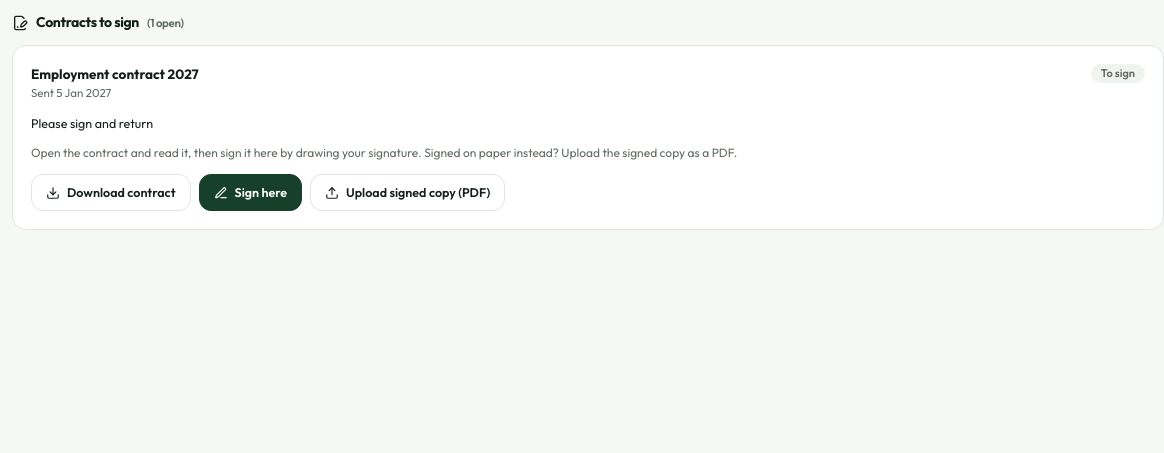
Test: ContractsToSign › a PDF contract can be signed with the saved signature, under their name
Later steps or results of the test are not shown.
Click the button "Sign here" at x=250, y=193, box [198, 174, 302, 211]
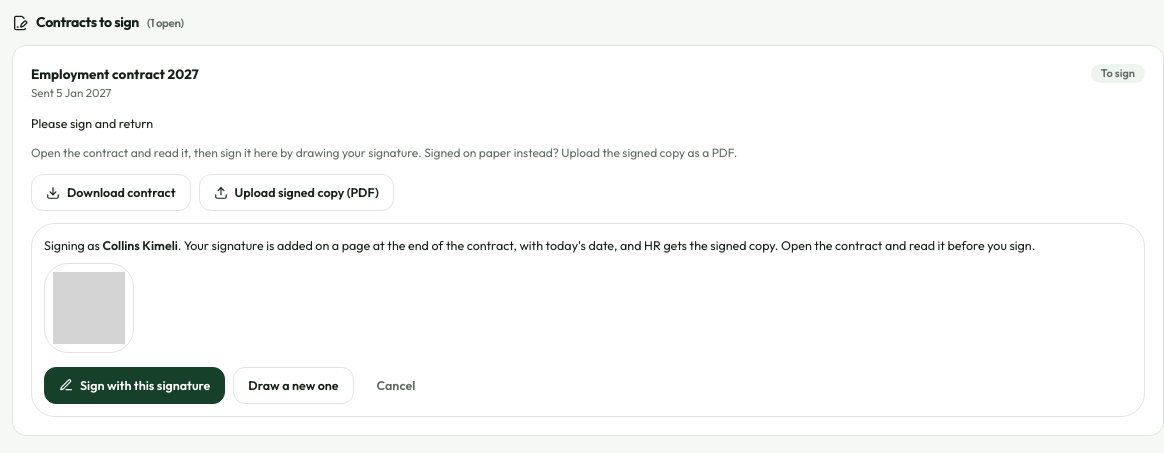
Expected: the text "Collins Kimeli" is shown, [102, 237, 178, 253]
